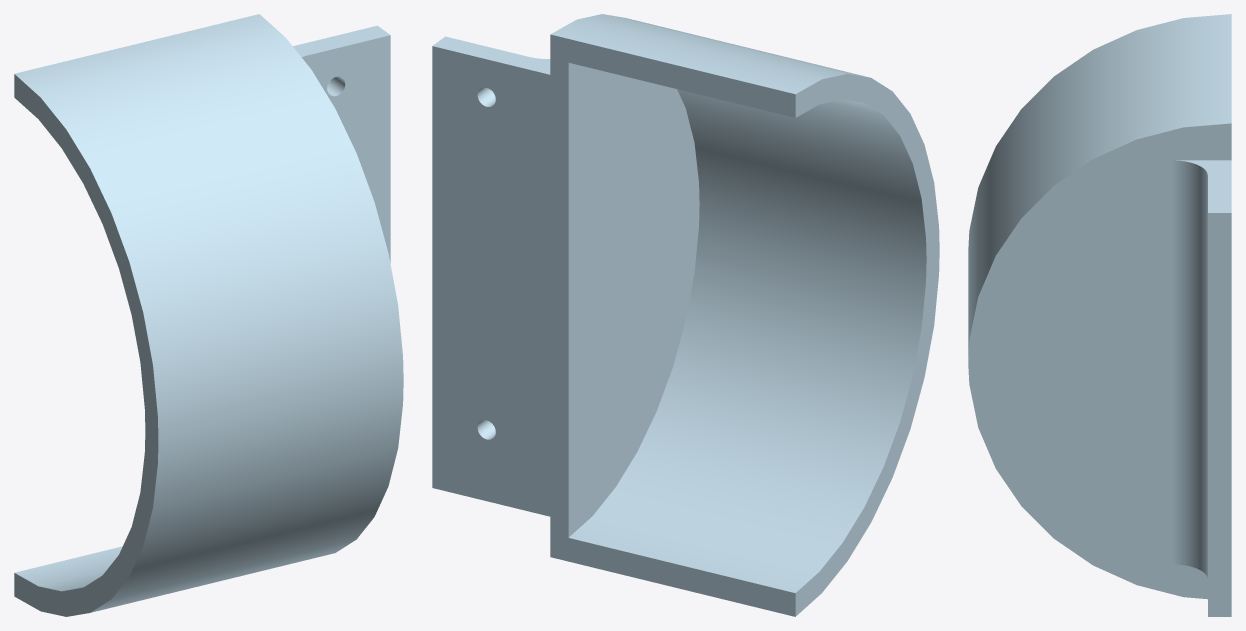
The model's file is niels_example_wheel_cover.gltf.
3 views of the same model, side by side, from view 1: azimuth 30°, elevation 25°; view 2: azimuth 150°, elevation 25°; view 3: azimuth 270°, elevation 25° (orthographic). The views are drawn at different scales.
Parts seen in each view (by area): view 1: Part 1; view 2: Part 1; view 3: Part 1.
Boxes of the visible parts, left/top/right/bottom form: Part 1: left=14, top=14, right=403, bottom=616; Part 1: left=432, top=14, right=939, bottom=616; Part 1: left=968, top=14, right=1231, bottom=616.
Size of the model in its own units: 0.08 by 0.11 by 0.055.
